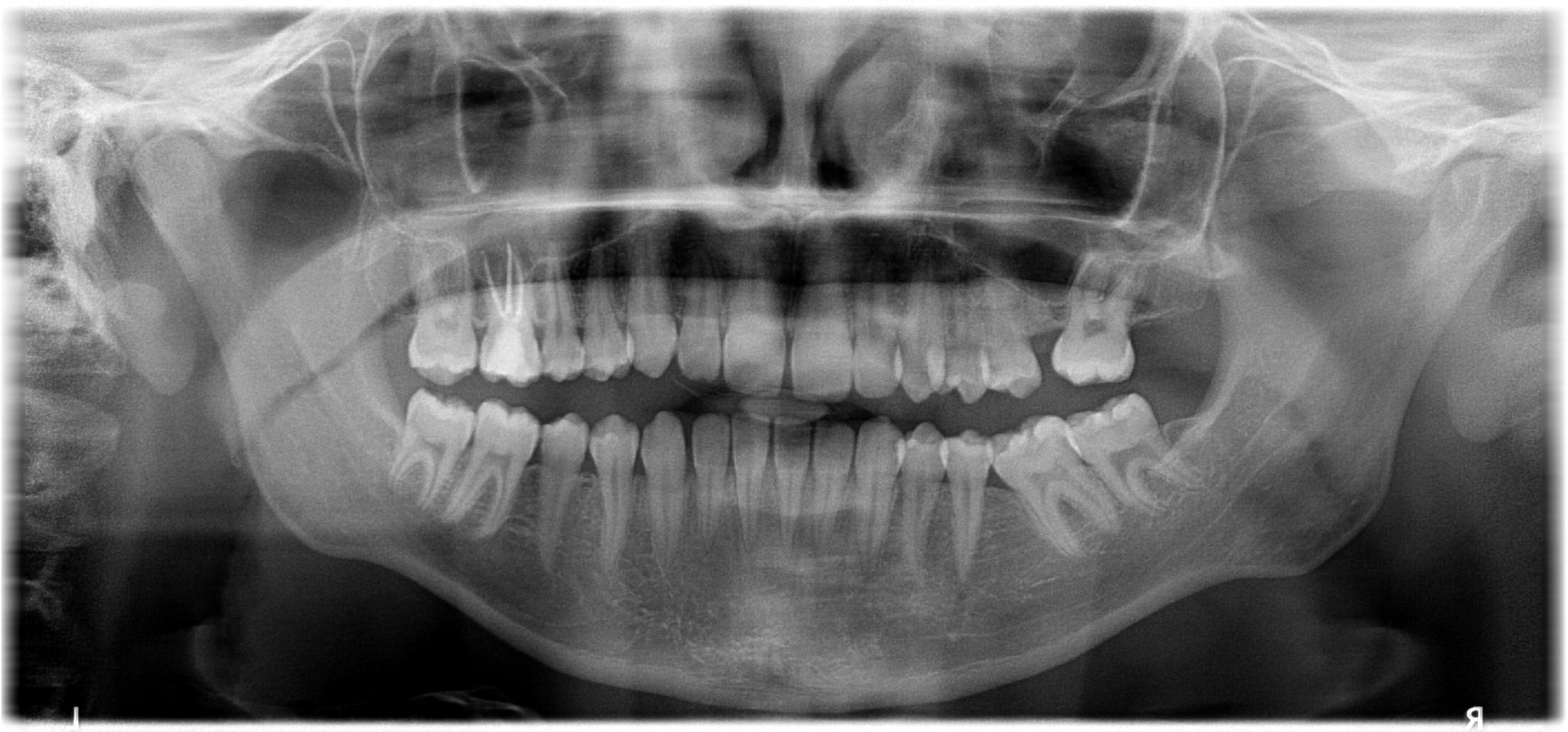Premolars: (535, 205, 1563, 620), (583, 186, 1568, 593)
